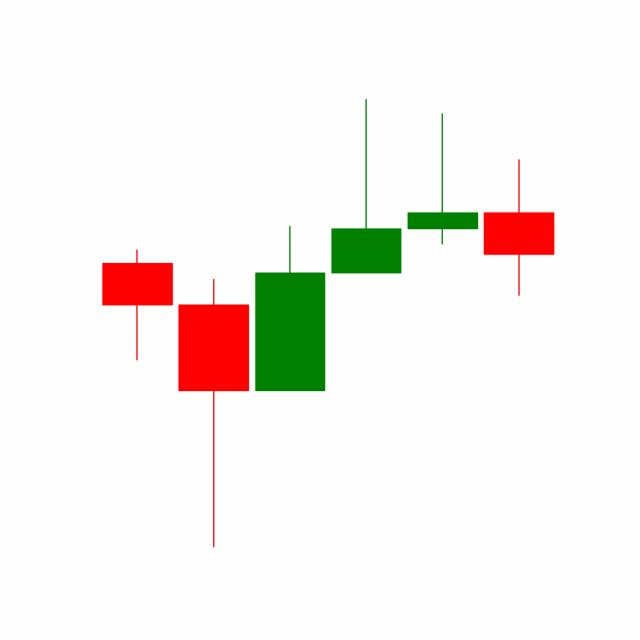Gravestone Doji: (403, 110, 481, 246)
